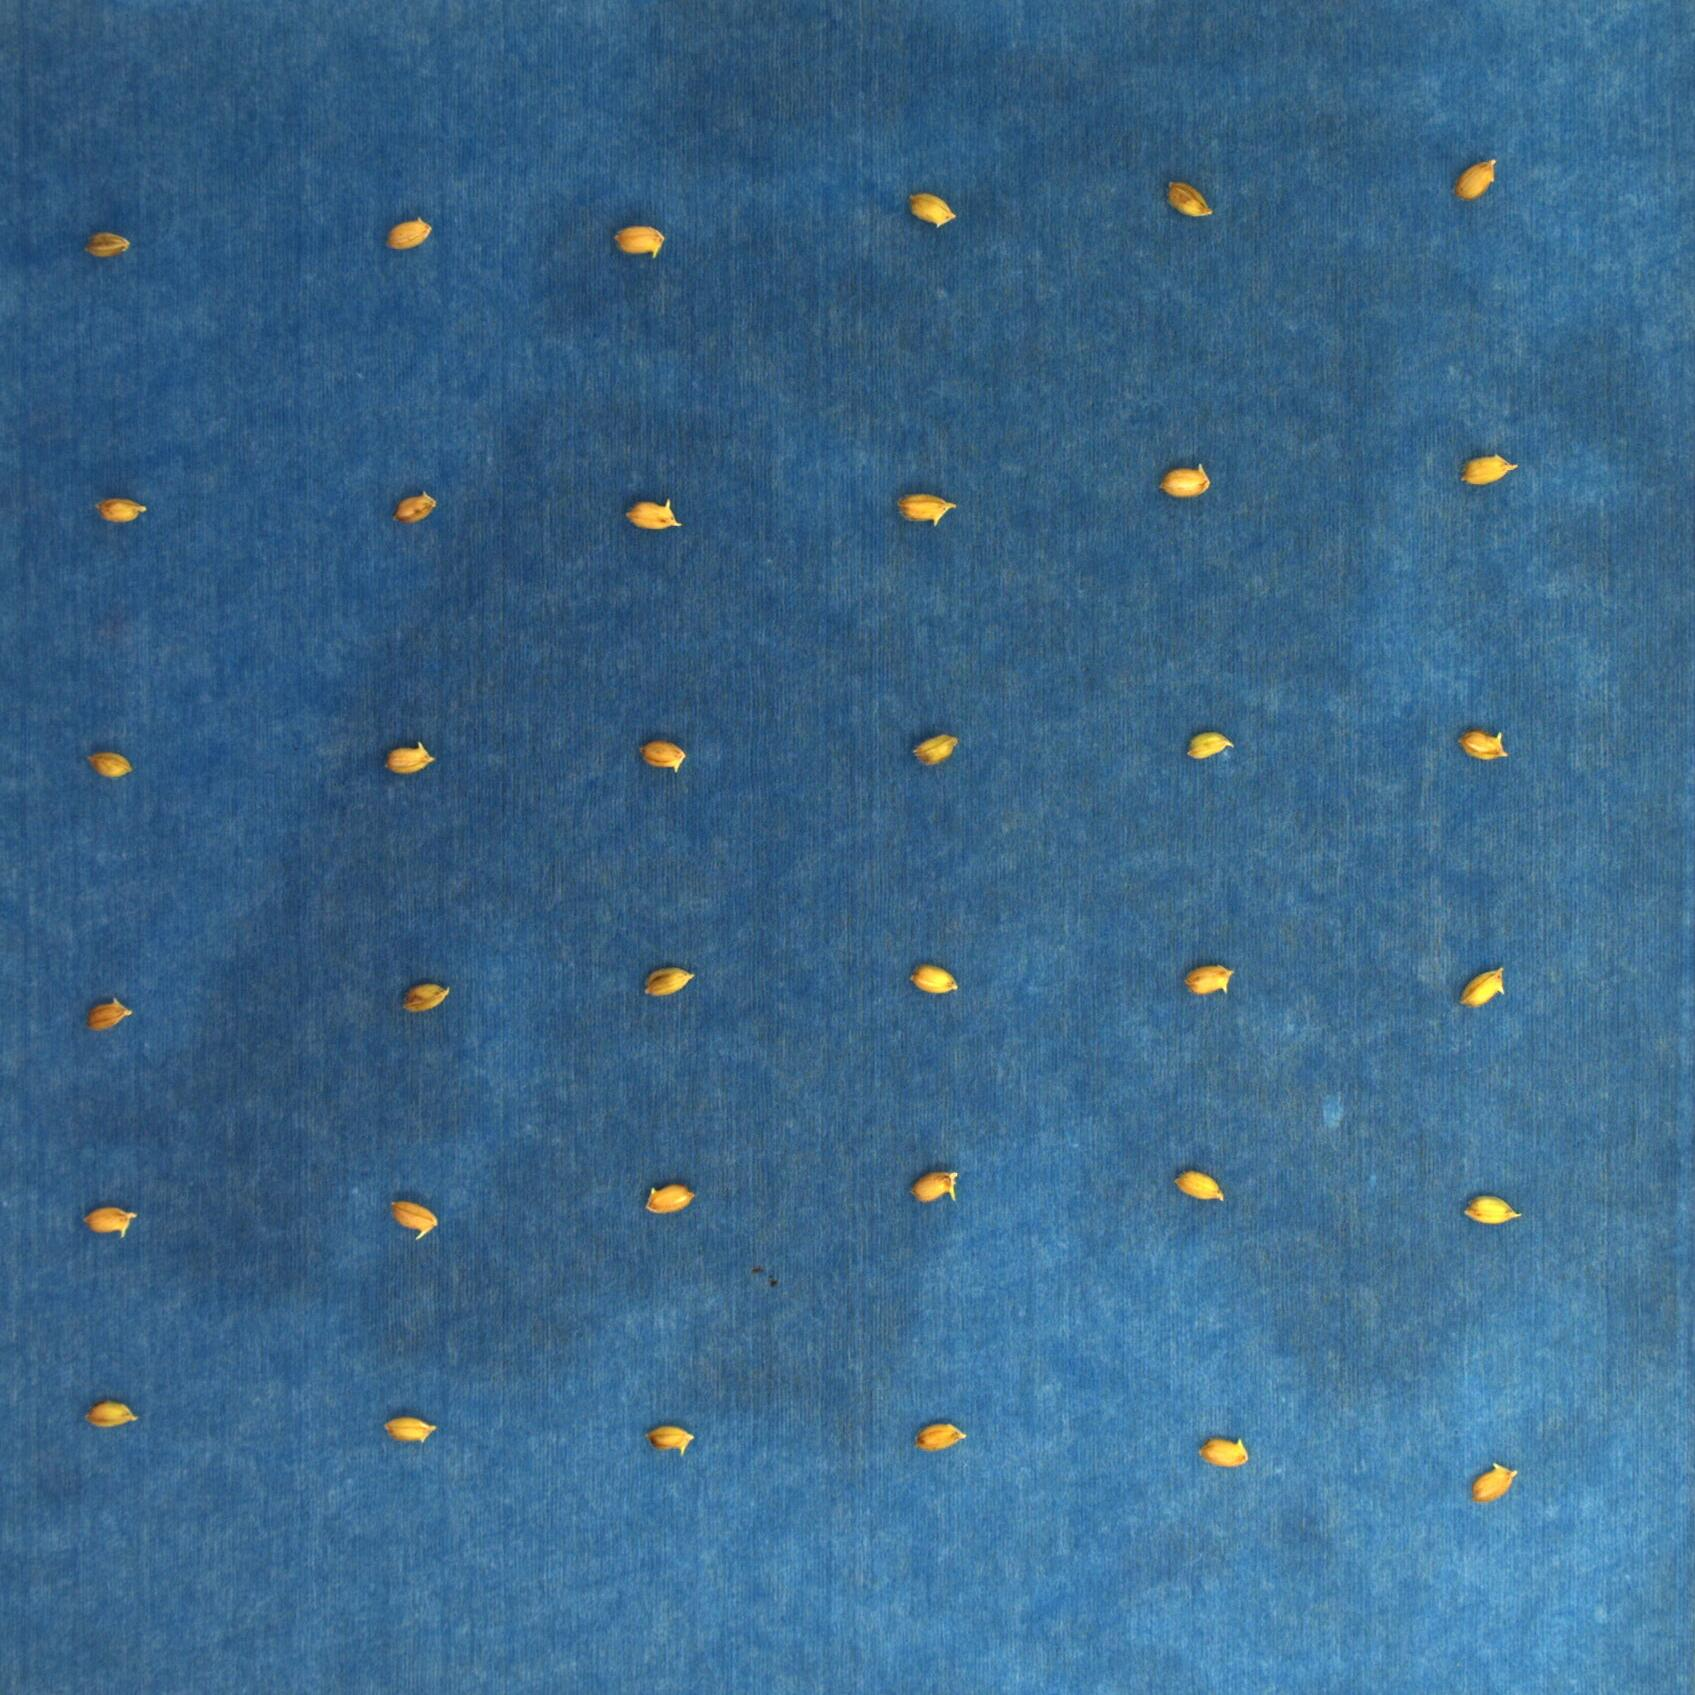not sprout: (1451, 958, 1509, 1014), (382, 1192, 445, 1242), (1454, 447, 1524, 490), (619, 490, 681, 539), (1159, 174, 1217, 225), (636, 959, 702, 1004), (900, 1161, 967, 1205), (78, 1391, 141, 1436), (391, 970, 452, 1017), (893, 487, 959, 529), (1164, 1167, 1231, 1209), (900, 956, 965, 998), (377, 736, 438, 781), (1453, 1192, 1526, 1229), (1189, 1430, 1253, 1471), (1180, 725, 1240, 768), (1451, 154, 1503, 205), (1159, 458, 1212, 508), (605, 220, 667, 262), (382, 483, 439, 528), (633, 1180, 697, 1220), (1177, 955, 1232, 998), (1465, 1461, 1518, 1506), (82, 989, 137, 1032), (903, 189, 959, 231), (644, 1420, 702, 1461), (78, 1203, 140, 1240), (1451, 726, 1510, 765), (382, 1412, 442, 1450), (906, 726, 959, 768), (380, 214, 435, 255), (911, 1419, 969, 1456), (93, 490, 147, 529), (636, 740, 692, 775), (82, 747, 133, 781), (82, 227, 129, 261)
